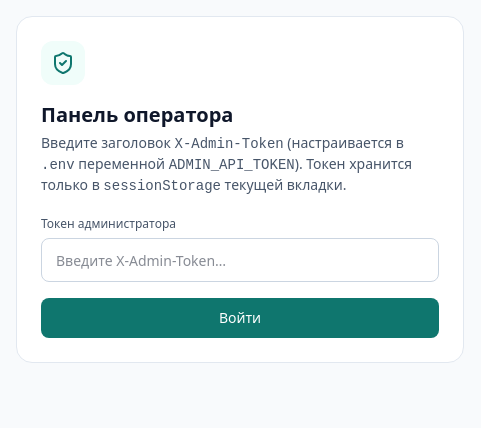
Scenario: AdminPage › shows error on 401 unauthorized token
In the password field labelled "Токен администратора": (240, 260) [41, 238, 439, 282], type "wrong"
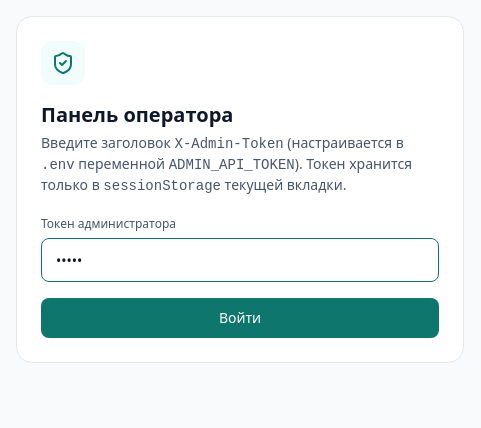
Click the button "Войти": (240, 318) [41, 298, 439, 338]
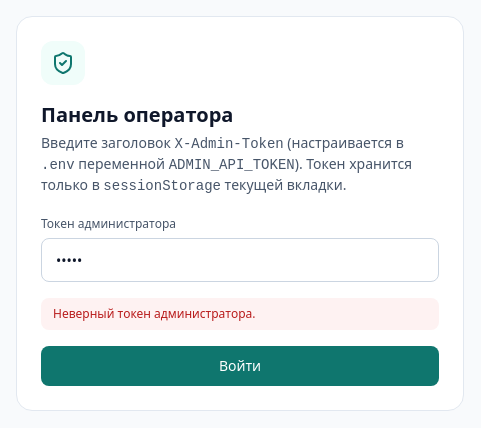
Expected: the text "Неверный токен администратора." is shown, [41, 298, 439, 330]
